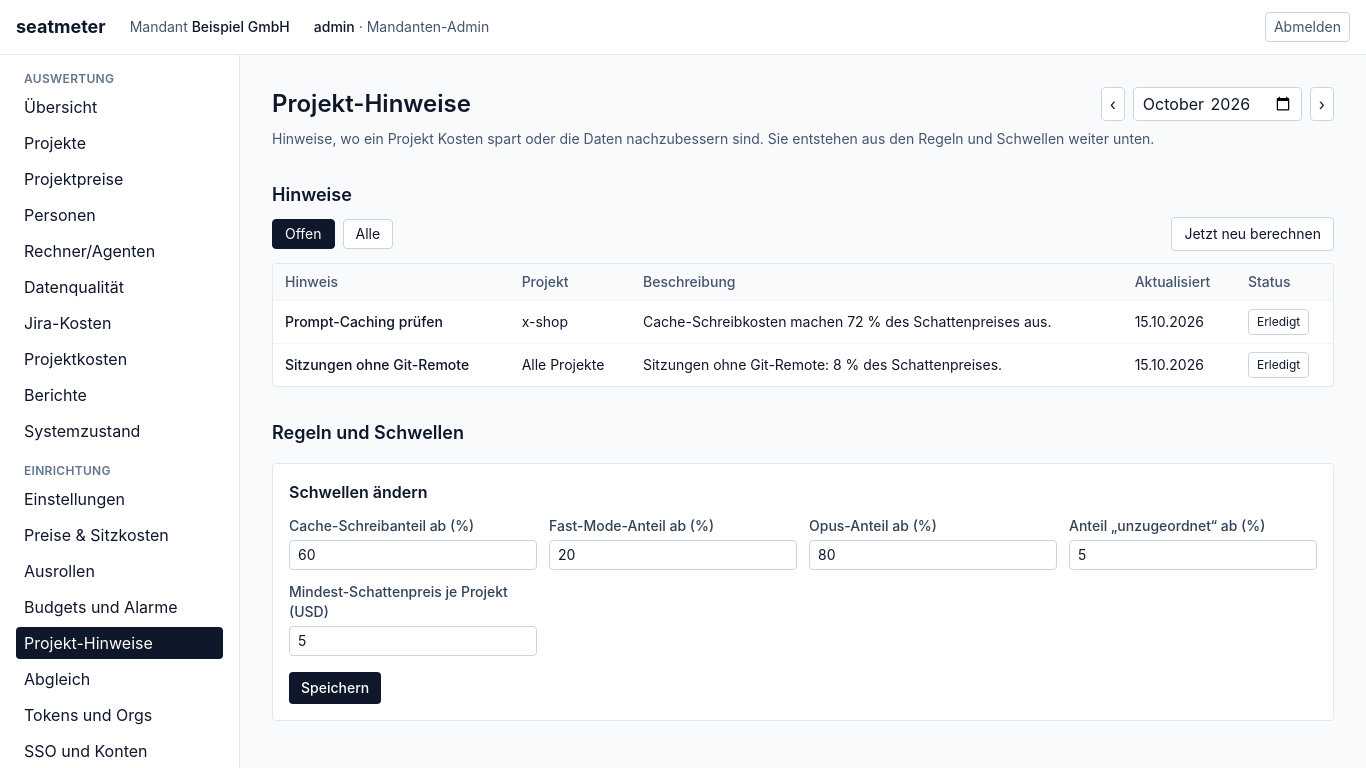
Test: Projekt-Hinweise › zeigt mit „Alle“ auch erledigte Hinweise
Check: the table named "Projekt-Hinweise im Monat" is shown, box top-left (273, 264), bottom-right (1333, 386)
Click the button "Alle" at (368, 234), box top-left (342, 219), bottom-right (393, 249)
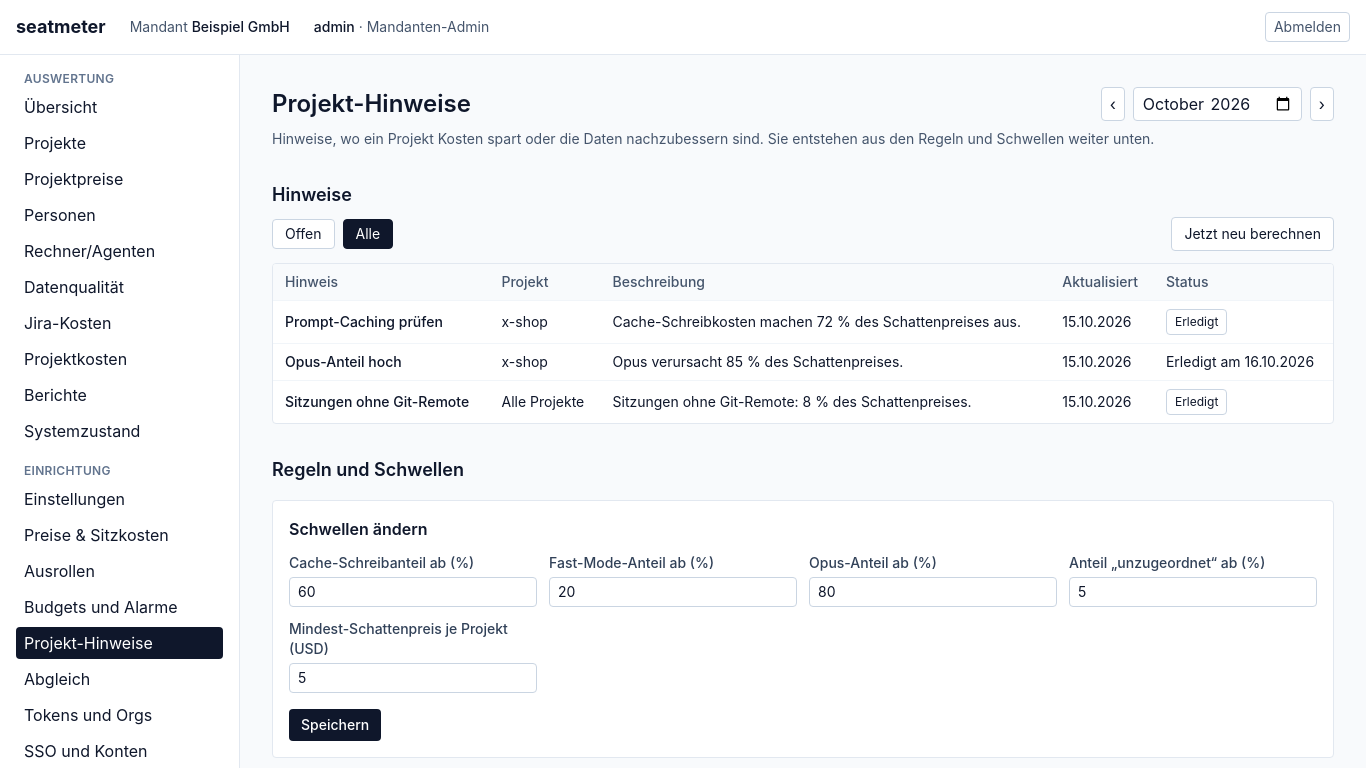
Check: the text "Opus-Anteil hoch" is shown, box top-left (285, 353), bottom-right (402, 370)
Check: the text "Erledigt am 16.10.2026" is shown, box top-left (1154, 344), bottom-right (1333, 380)
